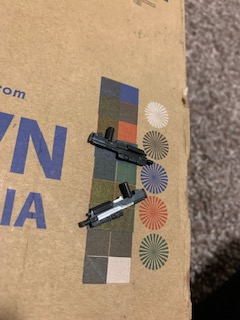rifle: (77, 182, 149, 229), (83, 126, 156, 172)
